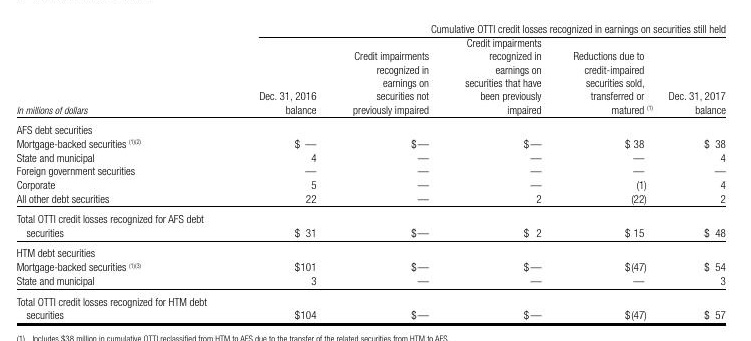table: (0, 0, 751, 341)
